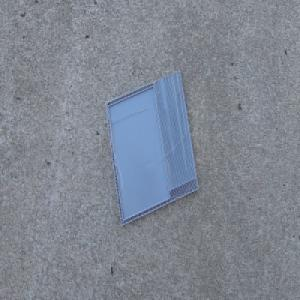PlasticPart: (104, 69, 199, 227)
